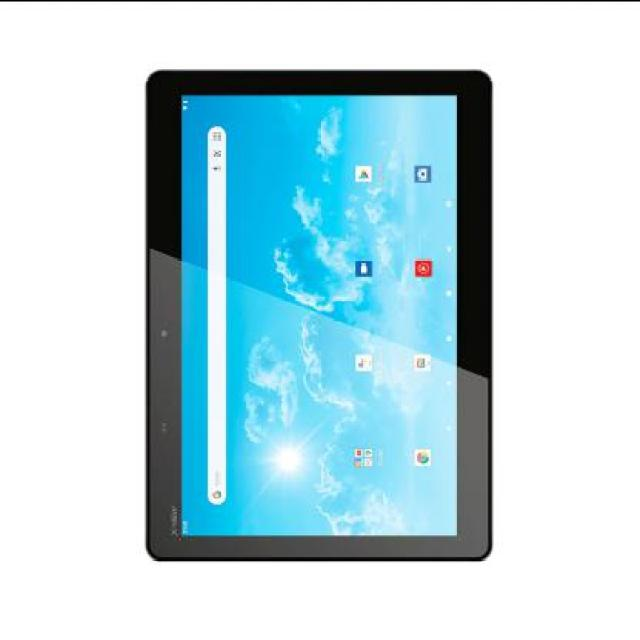tablet: (118, 7, 578, 610)
